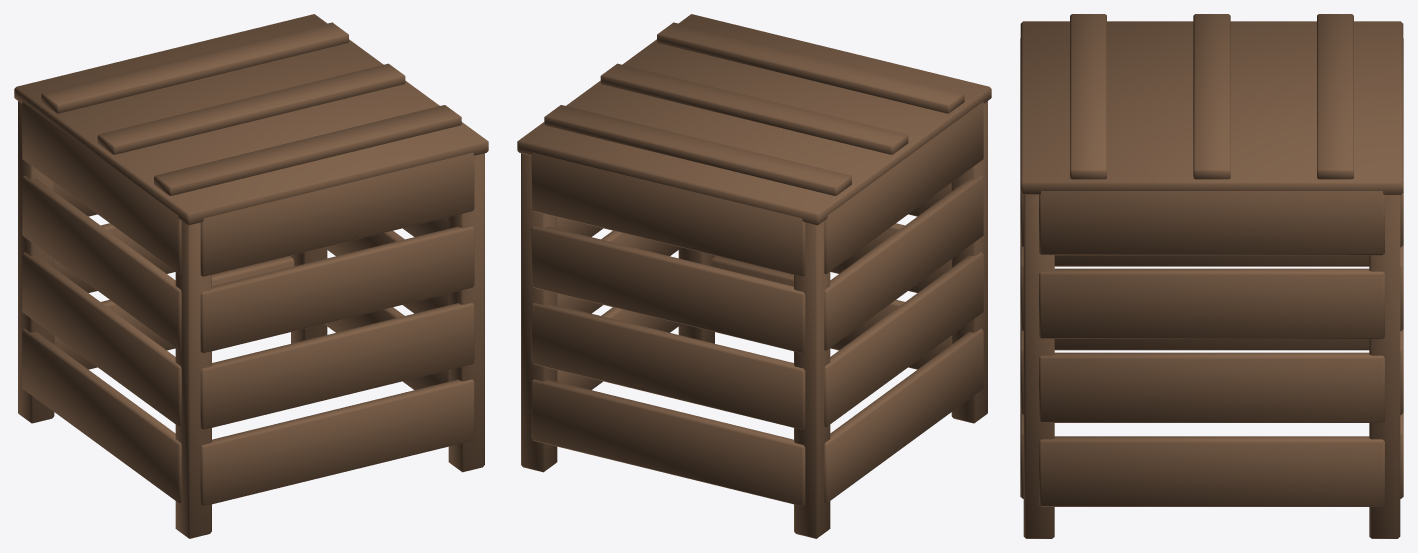
Rendered from crate.glb.
3 renders of one model, left to right at view 1: azimuth 30°, elevation 25°; view 2: azimuth 150°, elevation 25°; view 3: azimuth 270°, elevation 25°, orthographic. The views are drawn at different scales.
Parts seen in each view (by area): view 1: crate; view 2: crate; view 3: crate.
Boxes of the visible parts, x1,y1,x2,y2 form: crate: (14, 14, 488, 538); crate: (517, 14, 991, 538); crate: (1020, 14, 1403, 538).
Bounding box in the file's own units: 0.621 × 0.66 × 0.621.
